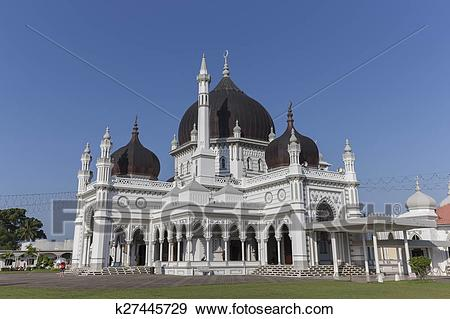Mosque: (67, 46, 361, 268)
